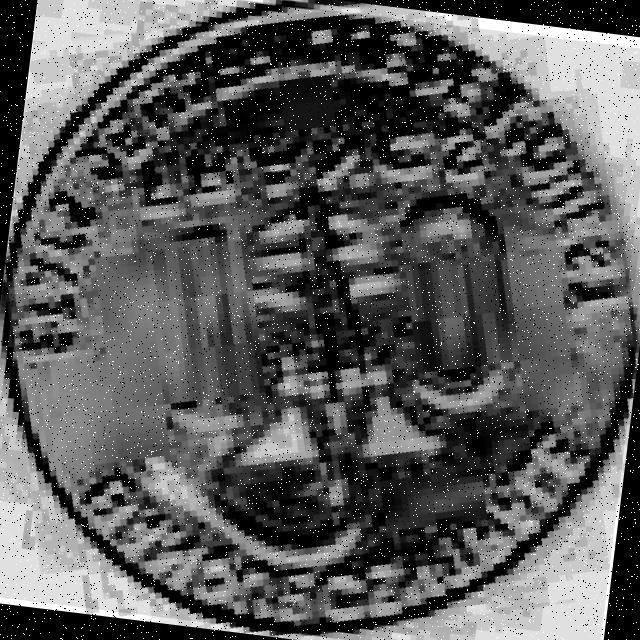niaari derem: (4, 8, 637, 635)
